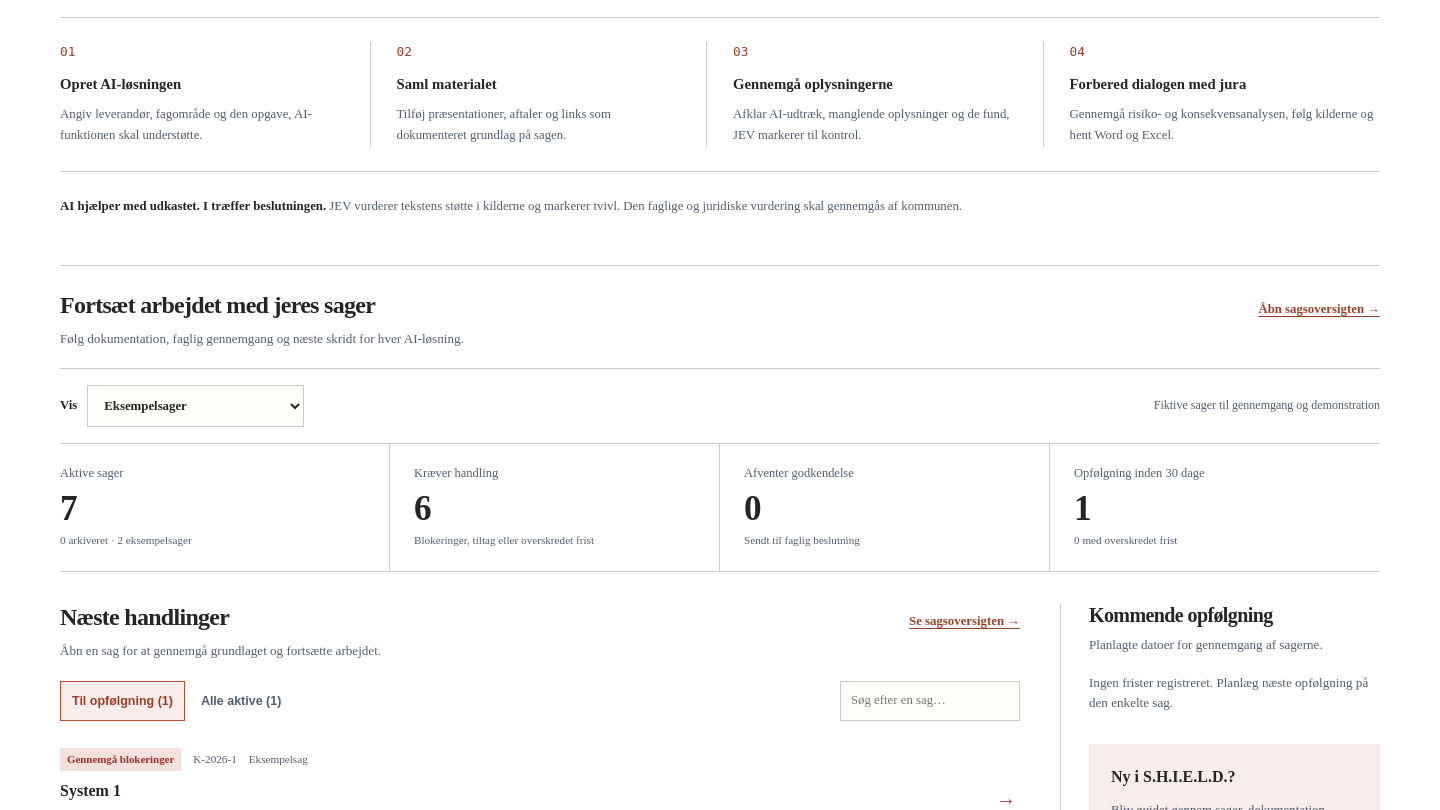
example scope stays explicit and preserves the return link to examples
(page scrolled)
Expected: the text "Eksempelsag" is shown, [249,754,308,766]
Select "Kommunens arbejdssager" in the dropdown labelled "Vis": (196, 406) [87,385,304,427]
(page scrolled)
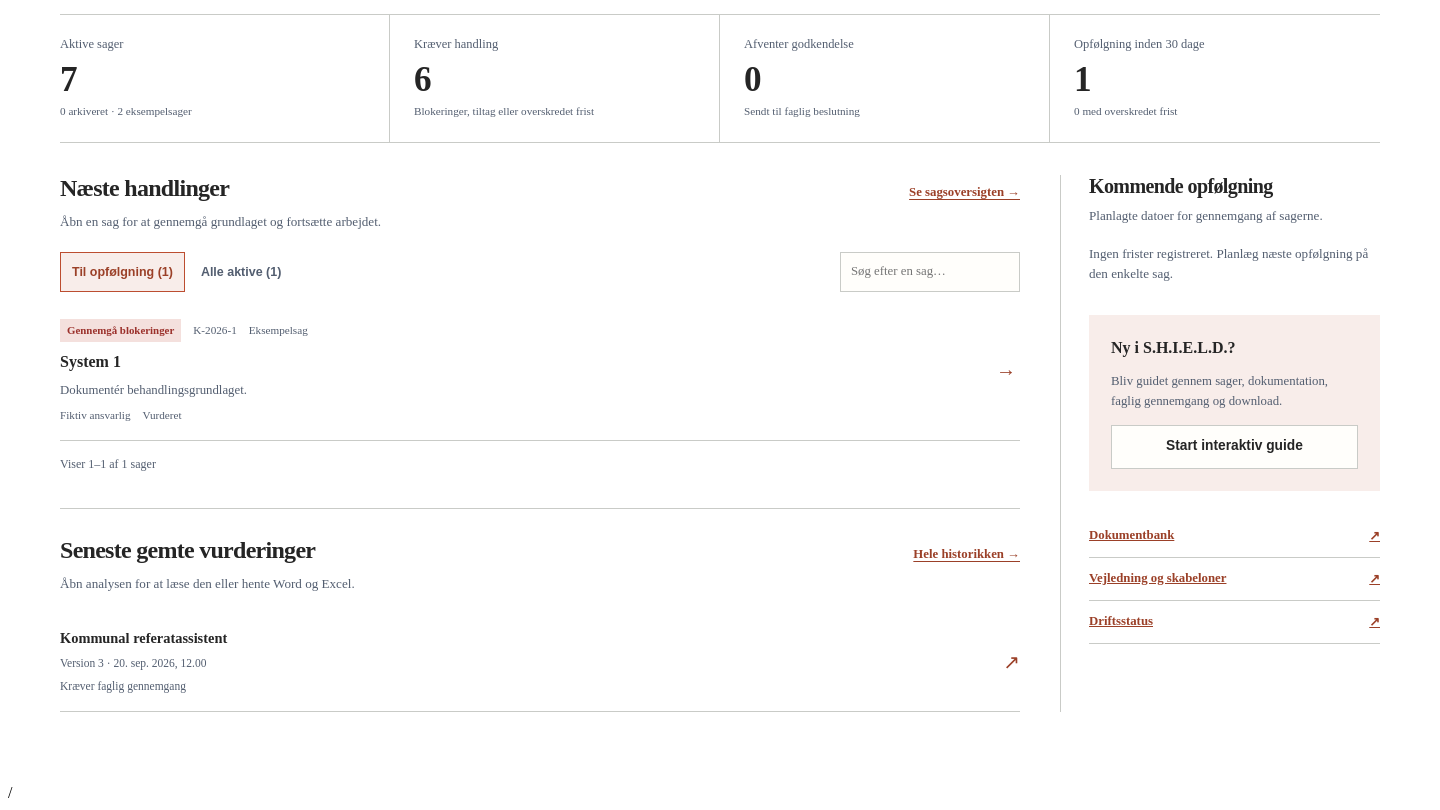
Expected: the text with test id "location" does not show "scope=", [8,784,12,801]
Expected: the text with test id "location" reads "/", [8,784,12,801]
